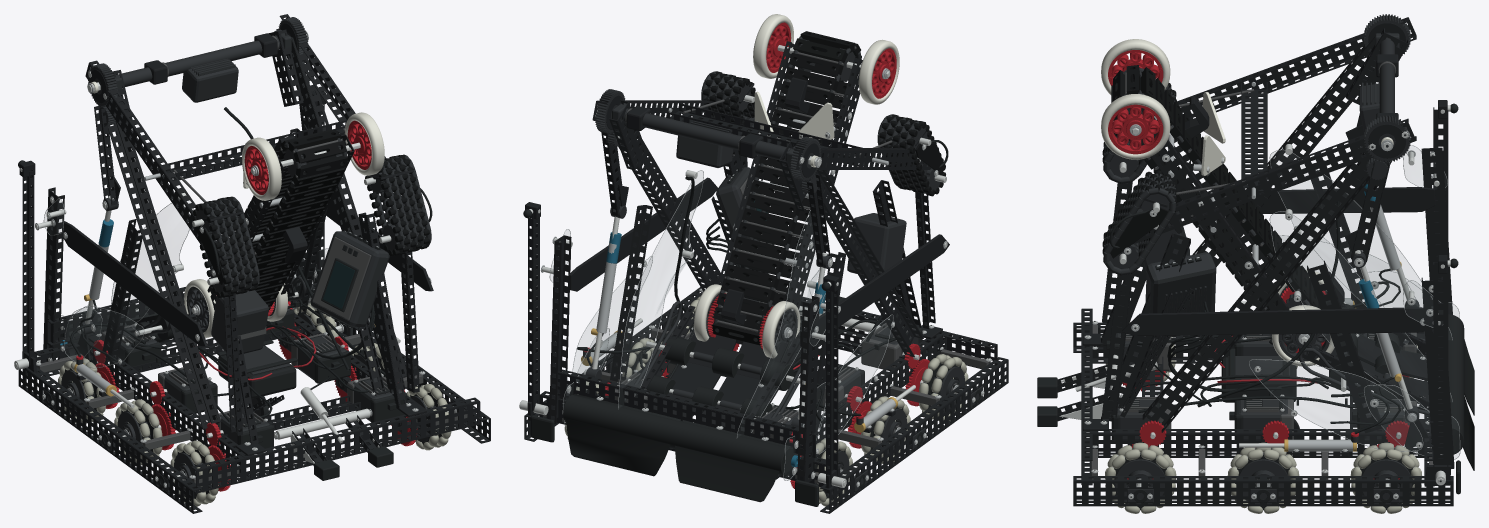
File: lions-robot.glb
3 views of the same model, side by side, from view 1: azimuth 30°, elevation 25°; view 2: azimuth 150°, elevation 25°; view 3: azimuth 270°, elevation 25° (orthographic). The views are drawn at different scales.
Visible parts, largest first — view 1: LIONS_photo_reconstruction__frame, LIONS_photo_reconstruction__plastic, intake_carriage__tread, LIONS_photo_reconstruction__rubber, scoring_arm__frame, LIONS_photo_reconstruction__formed_polycarbonate, scoring_cradle__tread, LIONS_photo_reconstruction__edge, scoring_cradle__plastic, LIONS_photo_reconstruction__wire_black, intake_carriage__plastic, left_doinker_hinge__frame (+18 smaller); view 2: LIONS_photo_reconstruction__frame, LIONS_photo_reconstruction__formed_polycarbonate, intake_carriage__tread, intake_carriage__frame, LIONS_photo_reconstruction__rubber, LIONS_photo_reconstruction__plastic, scoring_arm__frame, LIONS_photo_reconstruction__zinc, intake_carriage__plastic, LIONS_photo_reconstruction__edge, pickup_paddle_R__rubber, pickup_paddle_L__rubber (+21 smaller); view 3: LIONS_photo_reconstruction__frame, LIONS_photo_reconstruction__formed_polycarbonate, scoring_arm__frame, LIONS_photo_reconstruction__plastic, intake_carriage__frame, intake_carriage__tread, LIONS_photo_reconstruction__rubber, LIONS_photo_reconstruction__zinc, LIONS_photo_reconstruction__wire_black, scoring_cradle__plastic, right_doinker_hinge__frame, intake_roller_0__gear_red (+25 smaller).
Part boxes in pixels (<box>): LIONS_photo_reconstruction__frame: <box>18,29,490,513</box>; LIONS_photo_reconstruction__plastic: <box>37,29,465,492</box>; intake_carriage__tread: <box>209,129,347,311</box>; LIONS_photo_reconstruction__rubber: <box>26,232,457,488</box>; scoring_arm__frame: <box>85,14,422,267</box>; LIONS_photo_reconstruction__formed_polycarbonate: <box>44,199,327,367</box>; scoring_cradle__tread: <box>193,154,429,297</box>; LIONS_photo_reconstruction__edge: <box>37,35,467,483</box>; scoring_cradle__plastic: <box>196,154,431,295</box>; LIONS_photo_reconstruction__wire_black: <box>70,107,391,422</box>; intake_carriage__plastic: <box>112,138,347,356</box>; left_doinker_hinge__frame: <box>19,160,35,365</box>; LIONS_photo_reconstruction__frame: <box>524,100,1008,513</box>; LIONS_photo_reconstruction__formed_polycarbonate: <box>551,171,892,479</box>; intake_carriage__tread: <box>711,31,861,345</box>; intake_carriage__frame: <box>634,41,862,432</box>; LIONS_photo_reconstruction__rubber: <box>530,169,980,506</box>; LIONS_photo_reconstruction__plastic: <box>563,103,989,491</box>; scoring_arm__frame: <box>592,95,930,177</box>; LIONS_photo_reconstruction__zinc: <box>540,138,991,487</box>; intake_carriage__plastic: <box>624,36,906,435</box>; LIONS_photo_reconstruction__edge: <box>543,108,989,484</box>; pickup_paddle_R__rubber: <box>566,393,680,476</box>; pickup_paddle_L__rubber: <box>675,420,789,502</box>; LIONS_photo_reconstruction__frame: <box>1073,28,1454,506</box>; LIONS_photo_reconstruction__formed_polycarbonate: <box>1250,146,1458,458</box>; scoring_arm__frame: <box>1113,17,1416,244</box>; LIONS_photo_reconstruction__plastic: <box>1087,33,1441,502</box>; intake_carriage__frame: <box>1128,68,1429,410</box>; intake_carriage__tread: <box>1111,65,1324,310</box>; LIONS_photo_reconstruction__rubber: <box>1106,256,1464,502</box>; LIONS_photo_reconstruction__zinc: <box>1084,67,1460,499</box>; LIONS_photo_reconstruction__wire_black: <box>1135,170,1400,433</box>; scoring_cradle__plastic: <box>1103,85,1176,275</box>; right_doinker_hinge__frame: <box>1433,255,1448,475</box>; intake_roller_0__gear_red: <box>1108,50,1163,154</box>.
Bounding box in the file's own units: 1.39 × 1.47 × 1.53.
